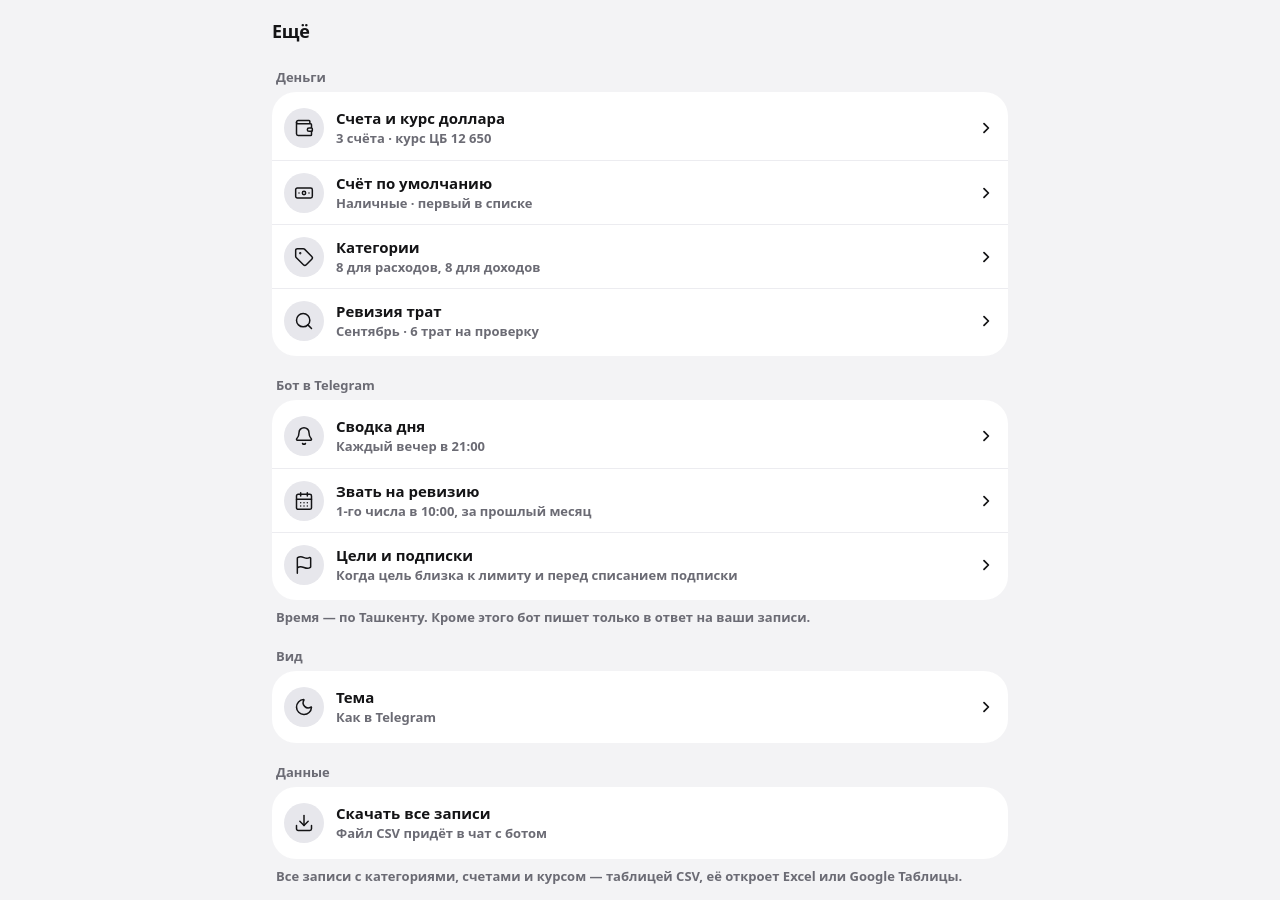
Test: «Ещё» in Telegram › «Сводка дня»: switch and time apply at once, are saved, and the row says the new state
The width and height of the screenshot is (1280, 900).
Click the button "Сводка дня Каждый вечер в 21:00".
click(304, 436)  # box top-left (272, 404), bottom-right (1008, 468)
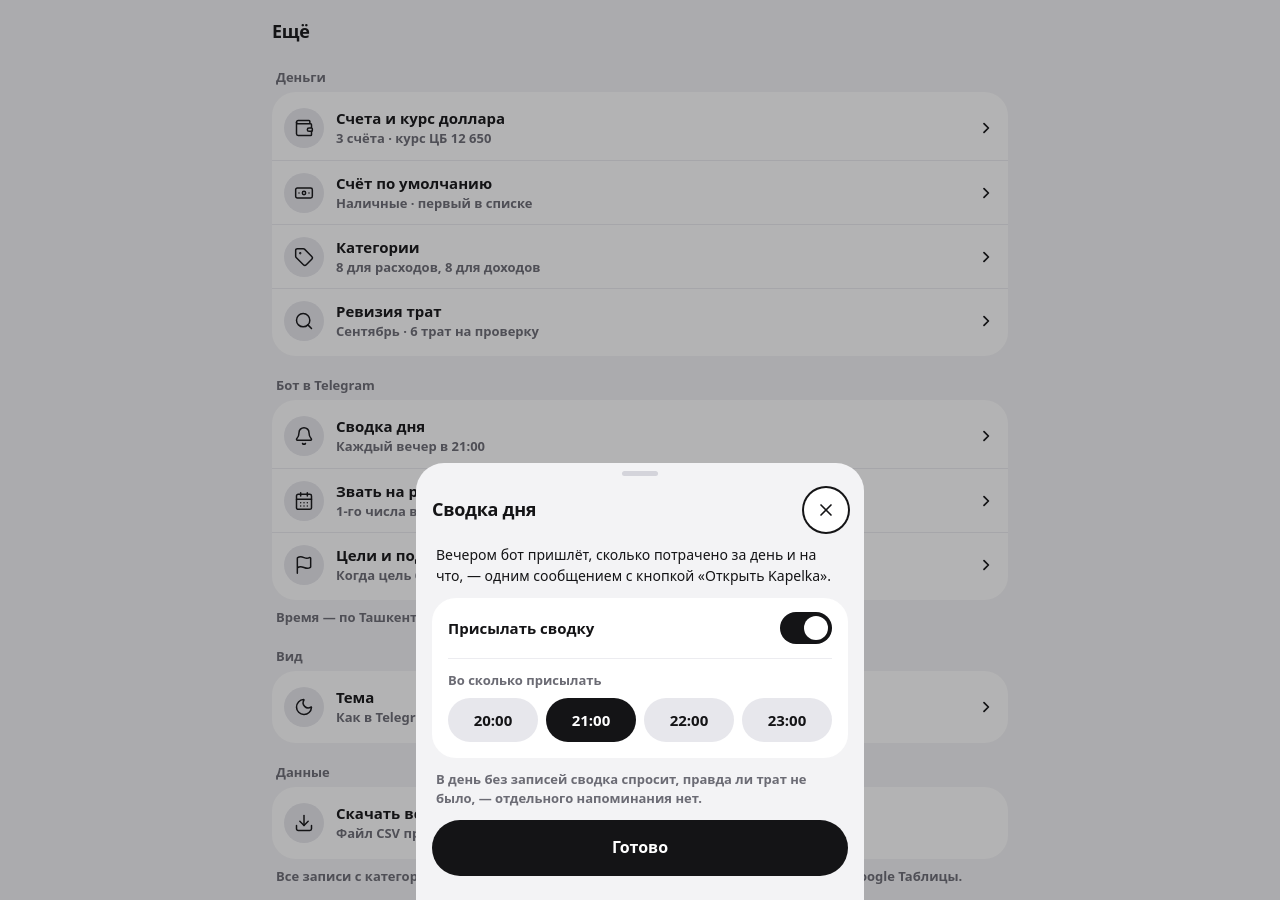
Expected: the heading "Сводка дня" is shown, top-left (432, 498), bottom-right (536, 522)
Expected: the dialog shows "В день без записей сводка спросит, правда ли трат не было, — отдельного напоминания нет.", top-left (436, 770), bottom-right (806, 807)
Expected: the text "Присылать сводку" is shown, top-left (448, 617), bottom-right (594, 639)
Click the radio button labelled "22:00".
click(689, 720)  # box top-left (644, 698), bottom-right (734, 742)
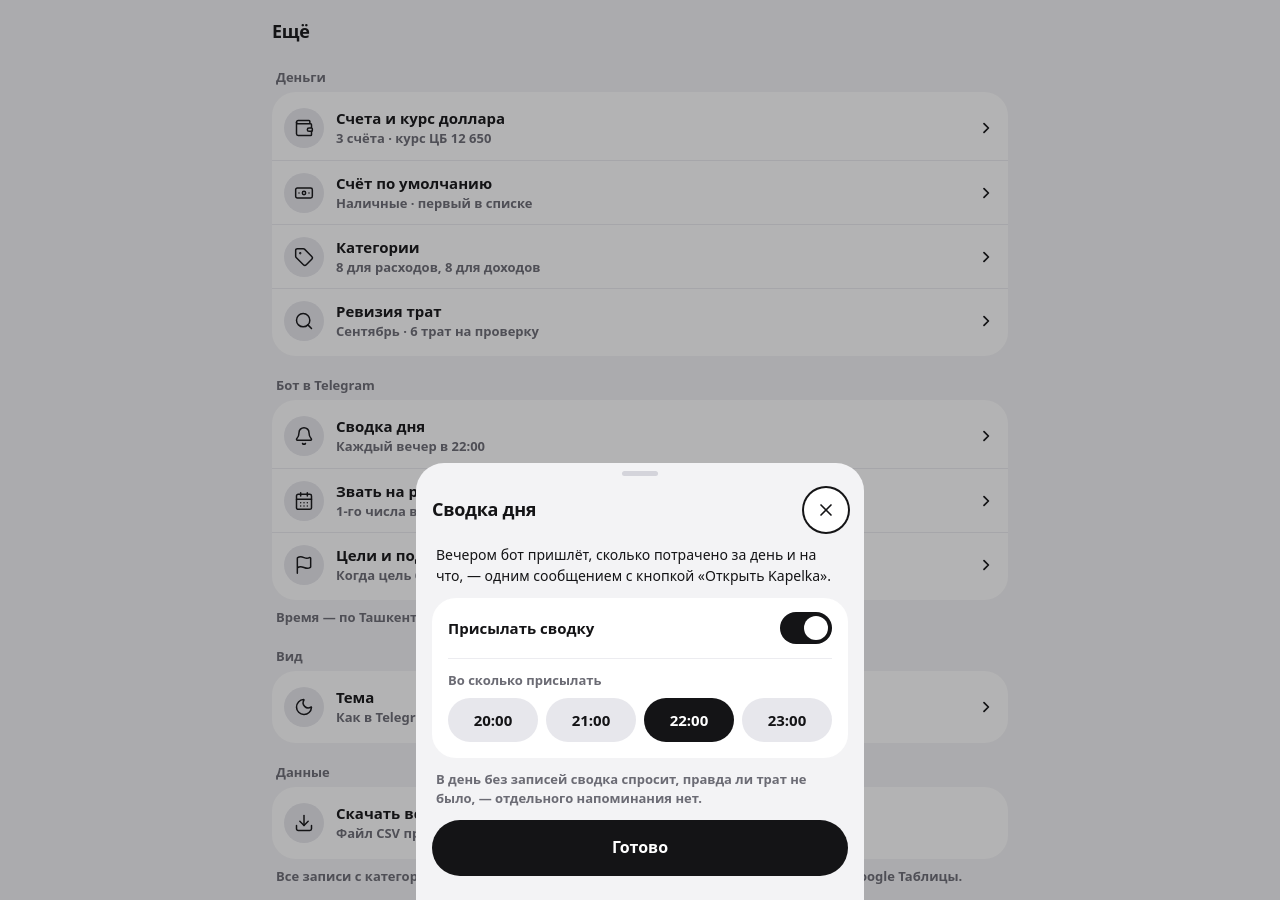
Expected: the radio button labelled "22:00" is checked, top-left (644, 698), bottom-right (734, 742)
Click the switch labelled "Присылать сводку".
click(521, 628)  # box top-left (448, 598), bottom-right (832, 658)
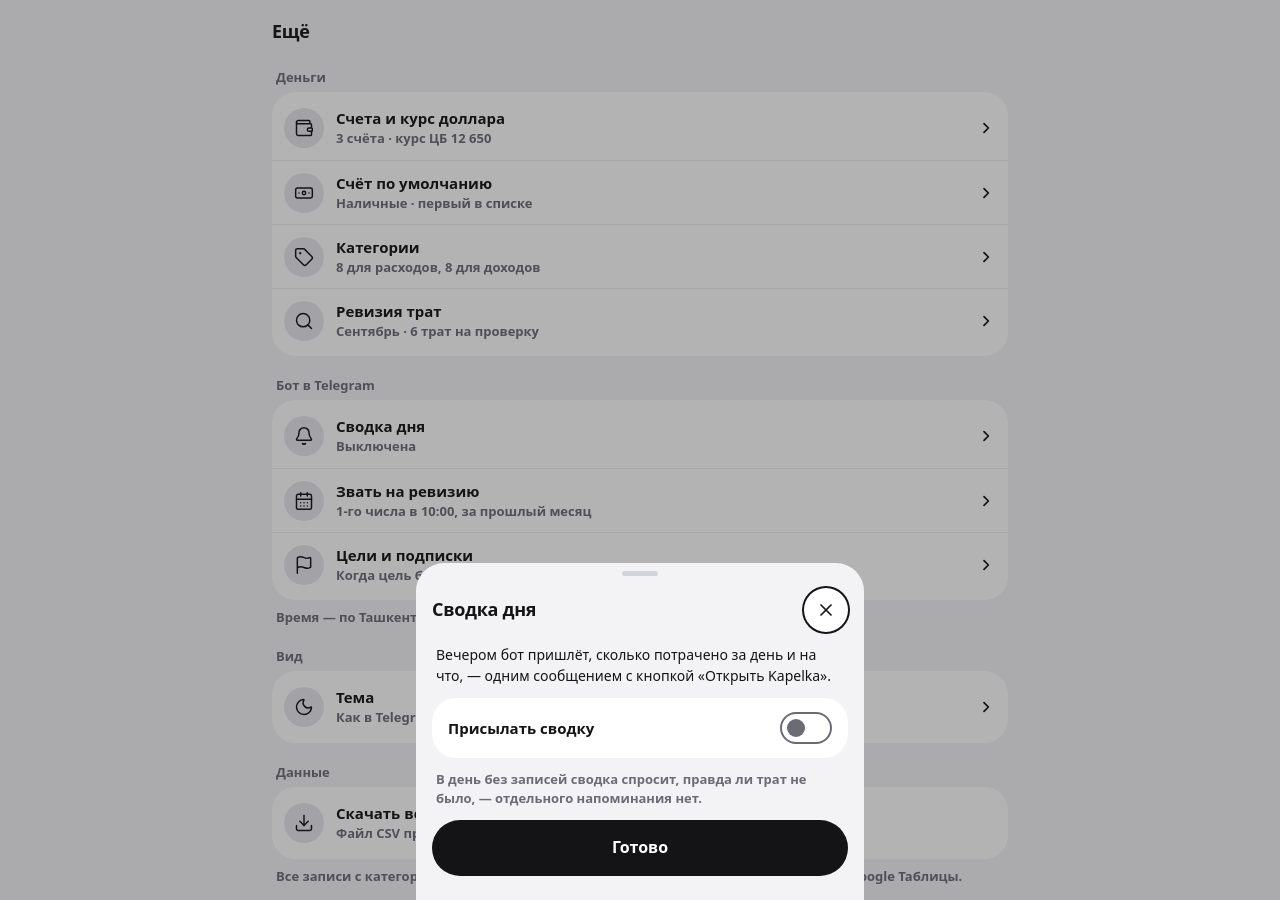
Expected: no radio buttons are shown
Click the button "Готово".
click(640, 848)  # box top-left (432, 820), bottom-right (848, 876)
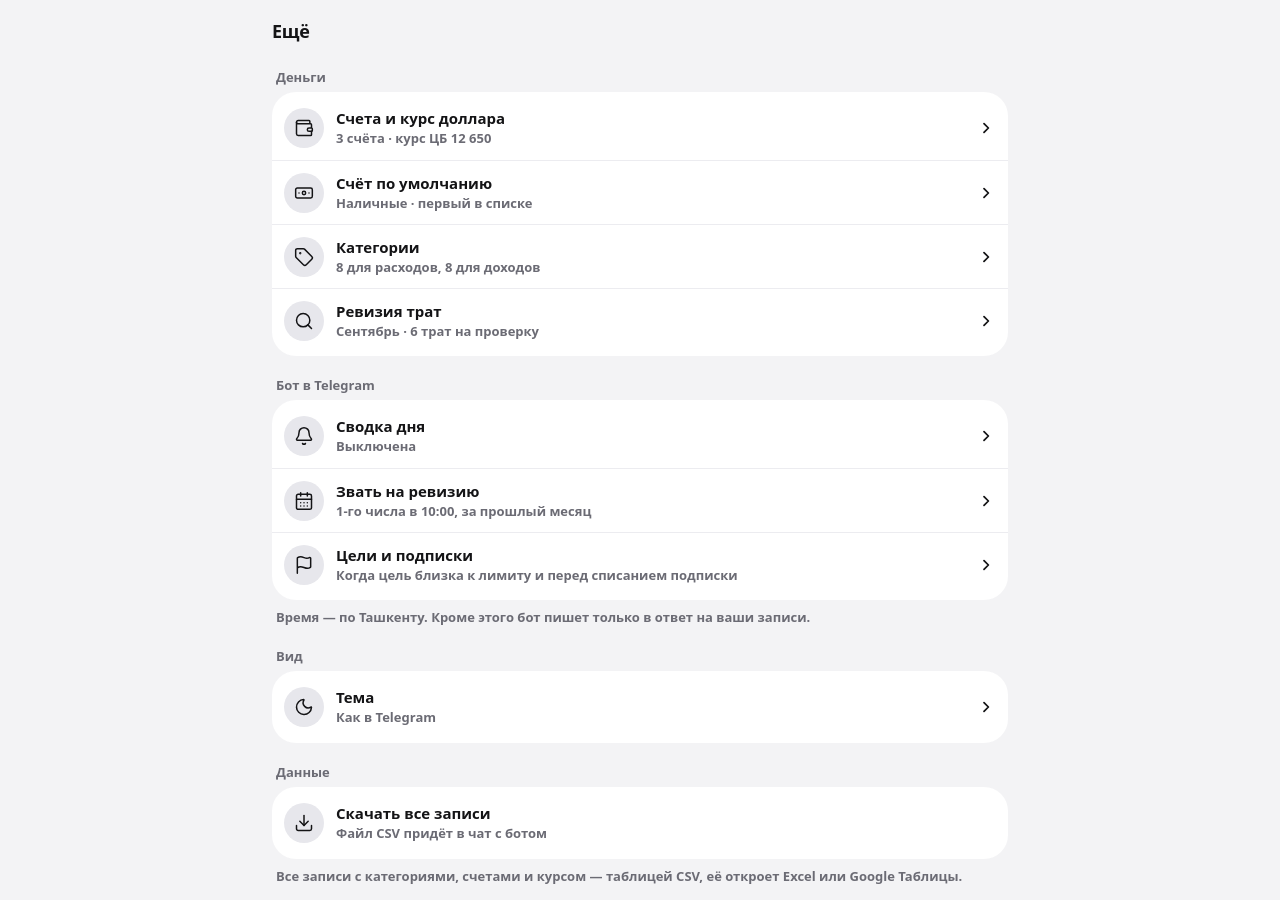
Expected: the dialog is gone
